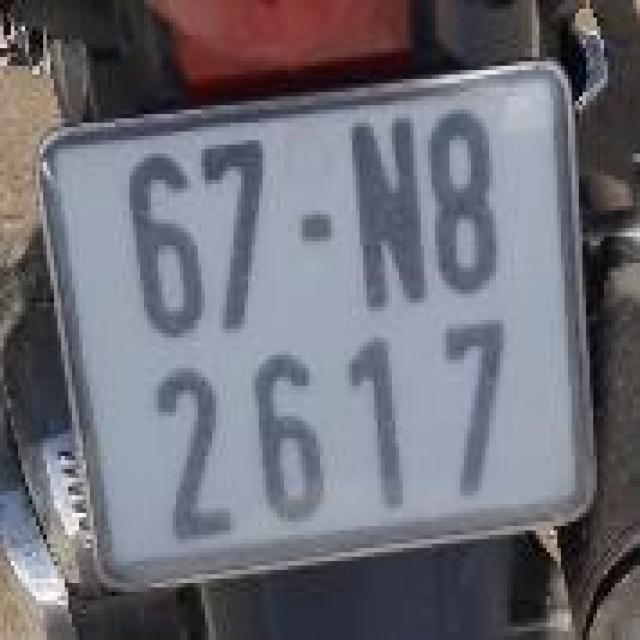1: (345, 328, 417, 522)
2: (153, 359, 235, 548)
6: (120, 151, 207, 340), (245, 342, 327, 530)
7: (428, 311, 518, 504), (199, 129, 268, 340)
8: (424, 94, 511, 300)
N: (345, 105, 435, 316)
